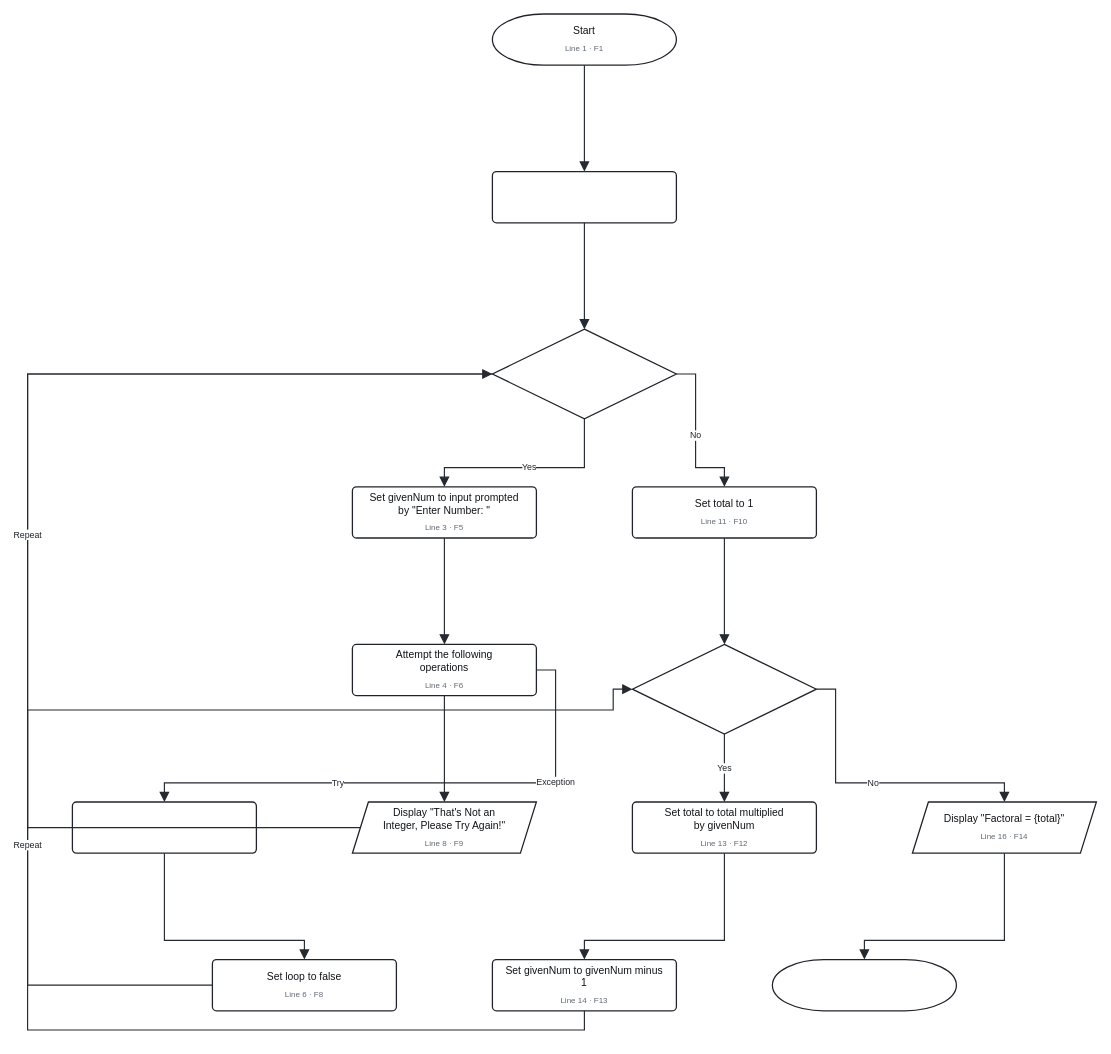
The diagram is 1111 pixels wide and 1054 high, and some of its shapes have lost their labels. Here are the shapes that lost their labels. From the top down, the centre of each, then its label:
At (584,197): "Set loop to true Line 1 · F3".
At (584,373): "Loop is equal to true? Line 2 · F4".
At (724,688): "GivenNum is greater than 0? Line 12 · F11".
At (164,827): "Set givenNum to givenNum converted to integer Line 5 · F7".
At (864,985): "End Line 1 · F2".
